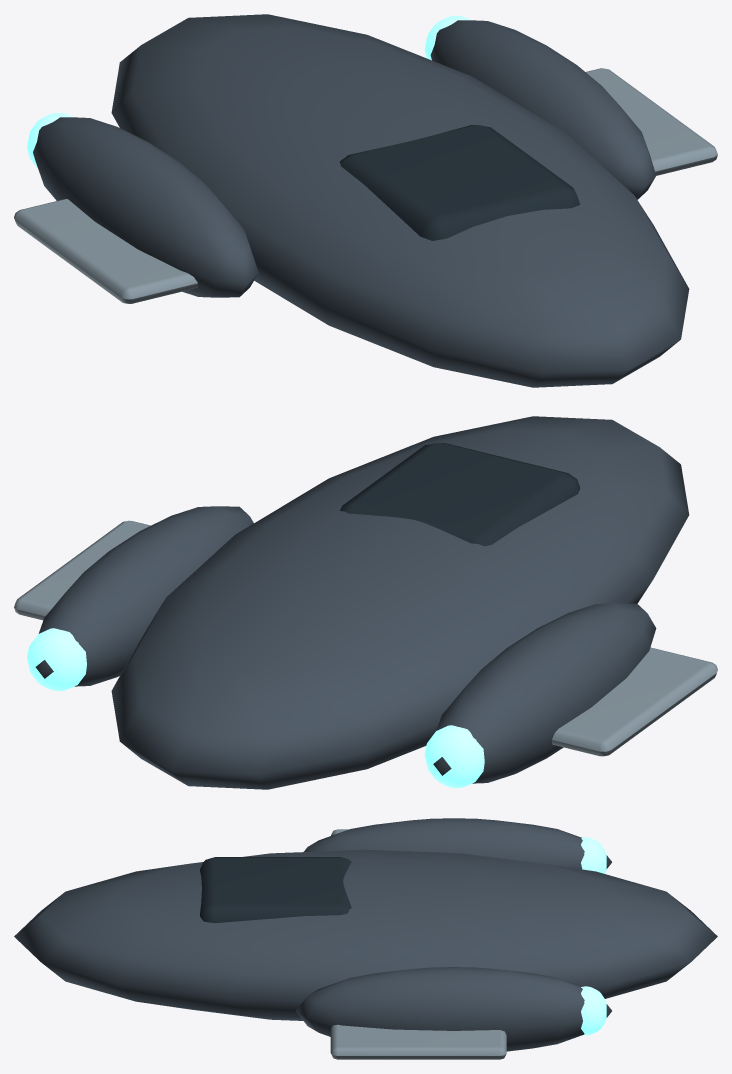
The model's file is Shuttle.fbx.
The picture shows the model from 3 angles, top to bottom: view 1: azimuth 30°, elevation 25°; view 2: azimuth 150°, elevation 25°; view 3: azimuth 270°, elevation 25°; orthographic projection. The views are drawn at different scales.
Visible parts, largest first — view 1: Shuttle_Graphite, Shuttle_Dark, Shuttle_Steel, Shuttle_Cyan; view 2: Shuttle_Graphite, Shuttle_Dark, Shuttle_Steel, Shuttle_Cyan; view 3: Shuttle_Graphite, Shuttle_Dark, Shuttle_Steel, Shuttle_Cyan.
Boxes of the visible parts, bbox=[...] form: Shuttle_Graphite: bbox=[33, 14, 689, 387]; Shuttle_Dark: bbox=[340, 125, 580, 240]; Shuttle_Steel: bbox=[14, 68, 717, 303]; Shuttle_Cyan: bbox=[27, 15, 470, 169]; Shuttle_Graphite: bbox=[35, 416, 689, 789]; Shuttle_Dark: bbox=[340, 443, 579, 546]; Shuttle_Steel: bbox=[14, 520, 717, 756]; Shuttle_Cyan: bbox=[27, 628, 484, 788]; Shuttle_Graphite: bbox=[14, 818, 717, 1051]; Shuttle_Dark: bbox=[200, 857, 351, 923]; Shuttle_Steel: bbox=[330, 829, 506, 1059]; Shuttle_Cyan: bbox=[581, 837, 606, 1035].
Bounding box in the file's own units: 600 × 140 × 800.
